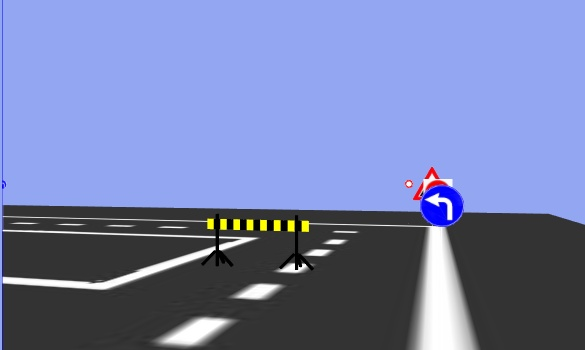engel: (200, 211, 322, 274)
sola_meburi_yol: (417, 185, 470, 228)
